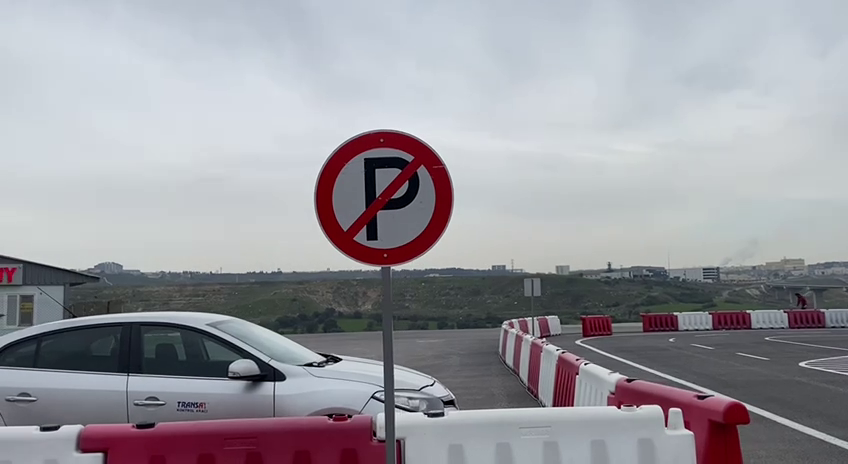noparking: (307, 123, 460, 272)
